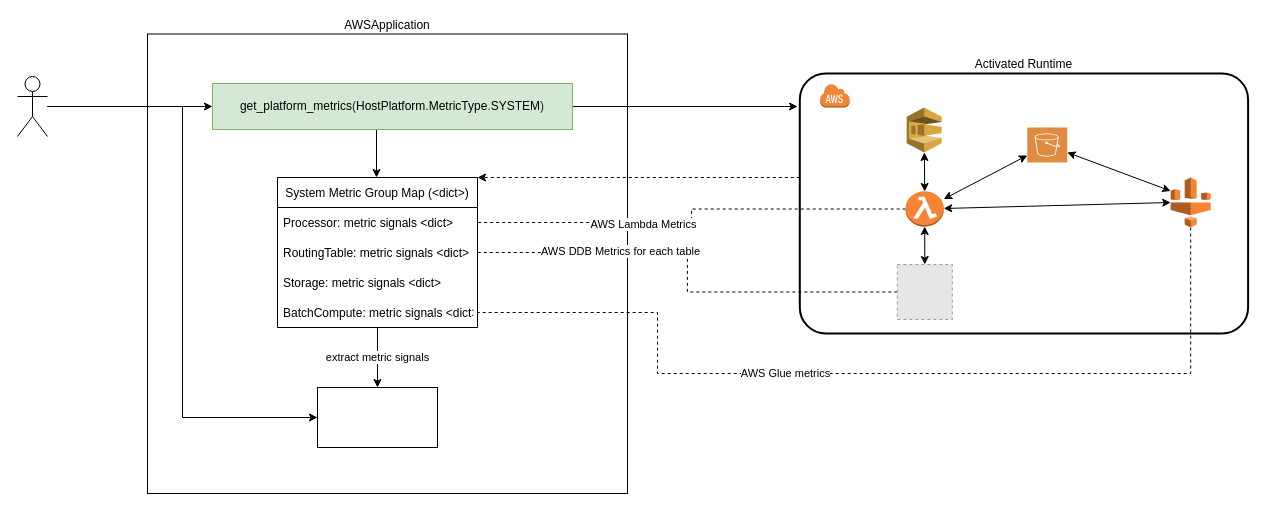
Image size: 1267x511. Some labels were removed from this diagram. Grey dashed boxes stand in for pictures. Here are the shapes that lost their labels. From the top down, the centre of each, then its label:
At point (1047, 144): "Internal Storage".
At point (377, 417): "create_alarm".
